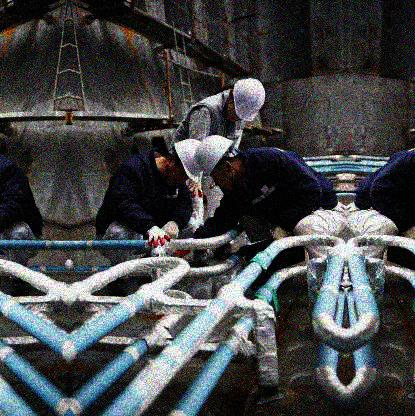helmet: (193, 134, 243, 192), (224, 78, 268, 124), (163, 139, 195, 190)
